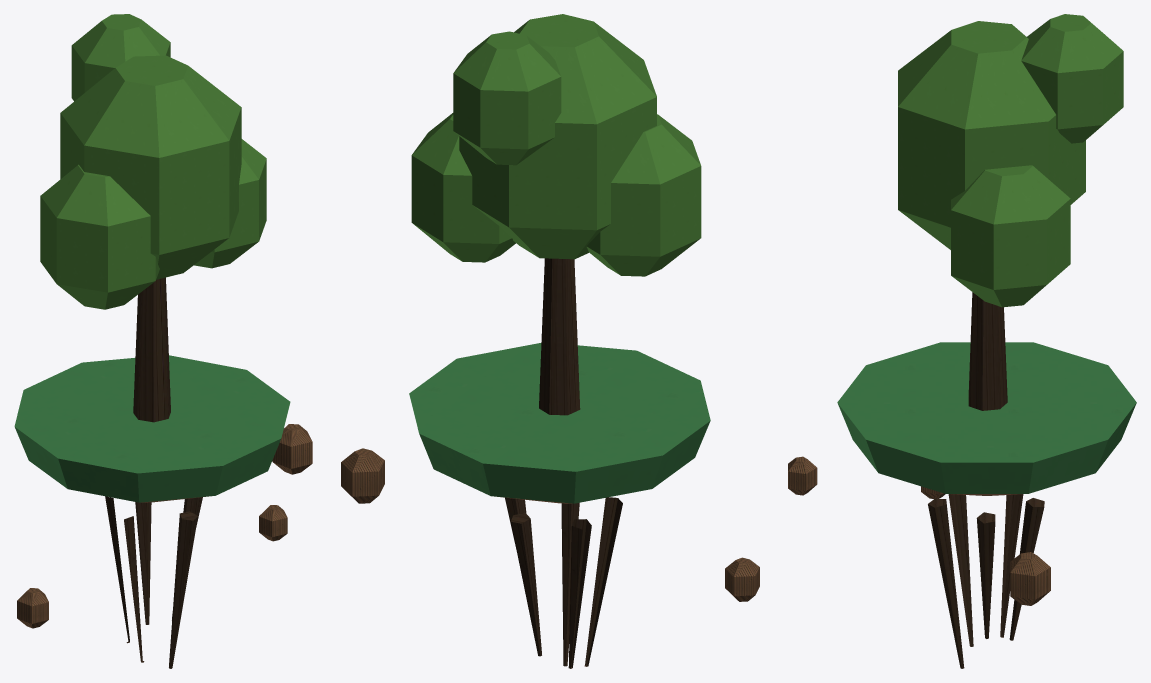
File: tree_floating_01.glb
The picture shows the model from 3 angles, left to right: view 1: azimuth 30°, elevation 25°; view 2: azimuth 150°, elevation 25°; view 3: azimuth 270°, elevation 25°; orthographic projection. The views are drawn at different scales.
Parts seen in each view (by area): view 1: tree_floating_01; view 2: tree_floating_01; view 3: tree_floating_01.
Boxes of the visible parts, x1,y1,x2,y2 form: tree_floating_01: (14, 14, 312, 668); tree_floating_01: (341, 14, 759, 668); tree_floating_01: (788, 14, 1136, 668).
Bounding box in the file's own units: 3.97 × 6.9 × 3.38.
4 materials, 4 textured.
